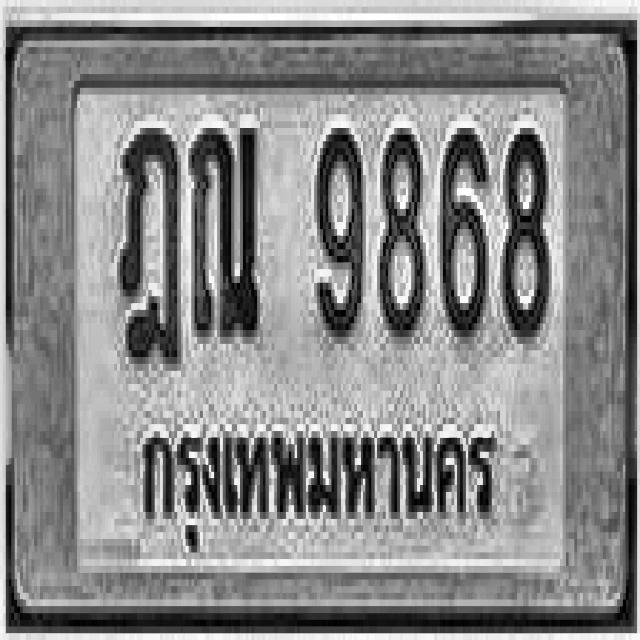license-plate: (10, 32, 627, 611)
